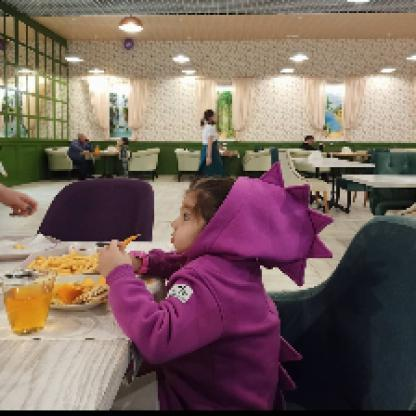child: (96, 176, 338, 416)
